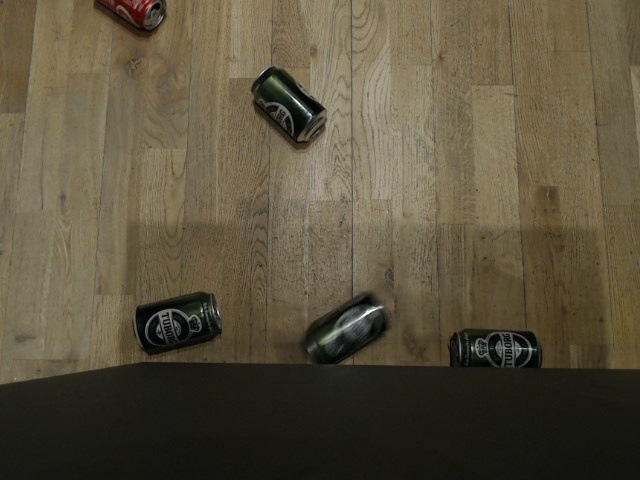beer: (298, 288, 393, 364), (247, 64, 330, 142), (132, 288, 223, 355), (449, 325, 546, 370)
cola: (92, 1, 170, 35)
